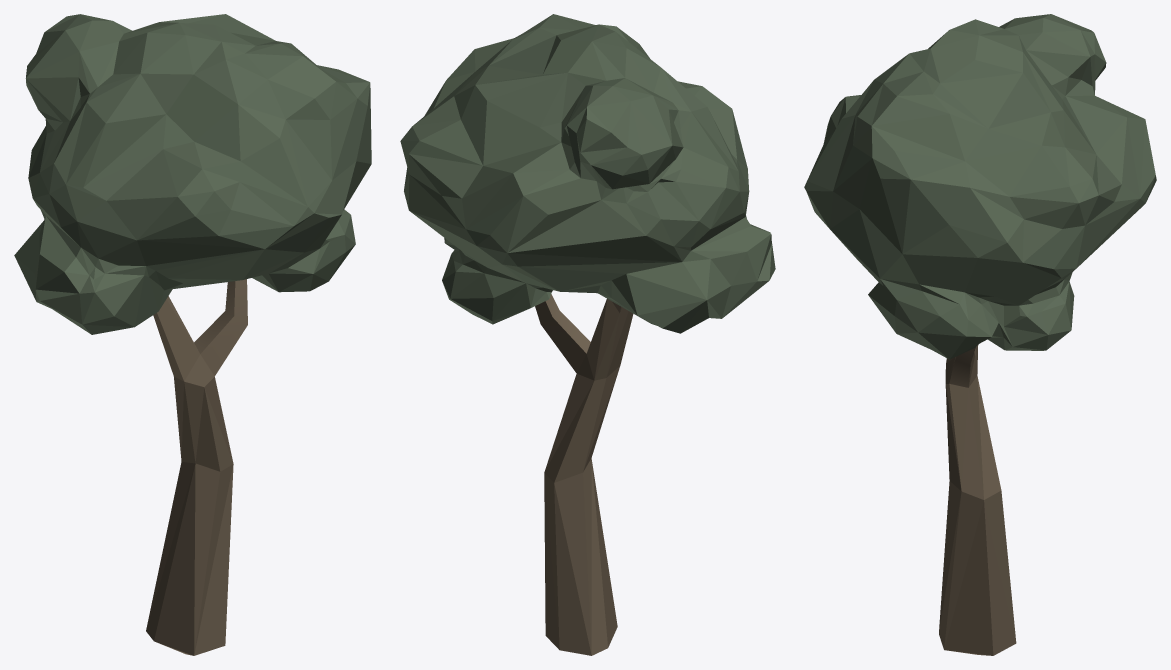
The model's file is SM_Generic_Tree_01.glb.
3 views of the same model, side by side, from view 1: azimuth 30°, elevation 25°; view 2: azimuth 150°, elevation 25°; view 3: azimuth 270°, elevation 25° (orthographic). The views are drawn at different scales.
Parts seen in each view (by area): view 1: SM_Generic_Tree_01; view 2: SM_Generic_Tree_01; view 3: SM_Generic_Tree_01.
Boxes of the visible parts, x1,y1,x2,y2 form: SM_Generic_Tree_01: (14, 14, 371, 655); SM_Generic_Tree_01: (400, 14, 775, 655); SM_Generic_Tree_01: (804, 14, 1156, 655).
Bounding box in the file's own units: 1.81 × 3.3 × 1.7.
1 material, 1 textured.
